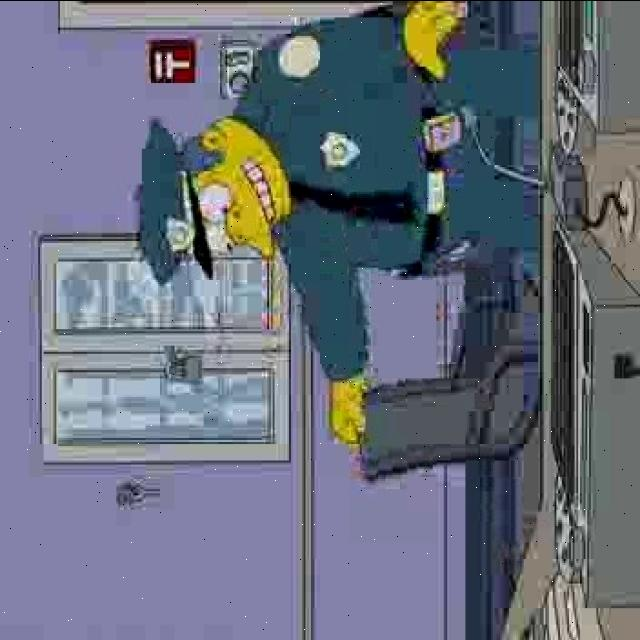Chief Wiggam: (136, 112, 290, 286)
